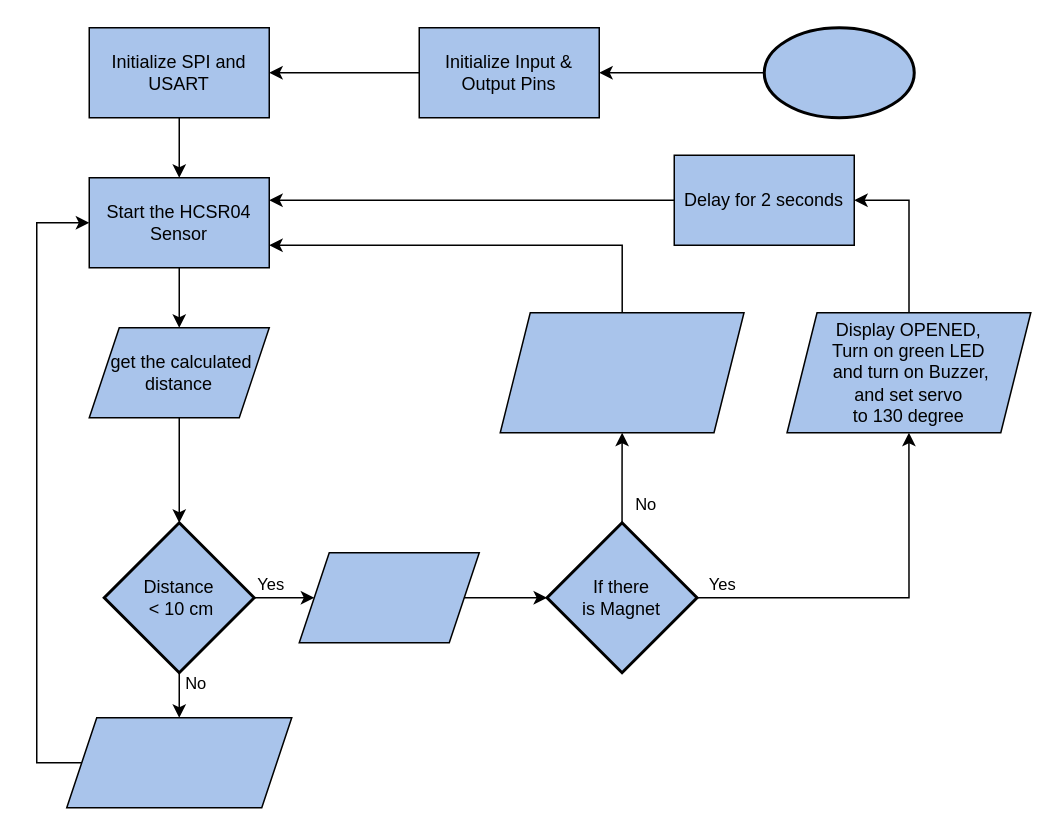
The diagram is 1058 pixels wide and 834 high, and some of its shapes have lost their labels. Here are the shapes that lost their labels. From the top down, the centre of each, then its label:
At (x=838, y=72): "Start".
At (x=621, y=372): "Display READY, Turn on green LED and turn on Buzzer, and set servo to 40 degree".
At (x=388, y=597): "Get the magnet input".
At (x=178, y=762): "Display COOKING, Turn off all LED and Buzzer, and set servo to 40 degree".
